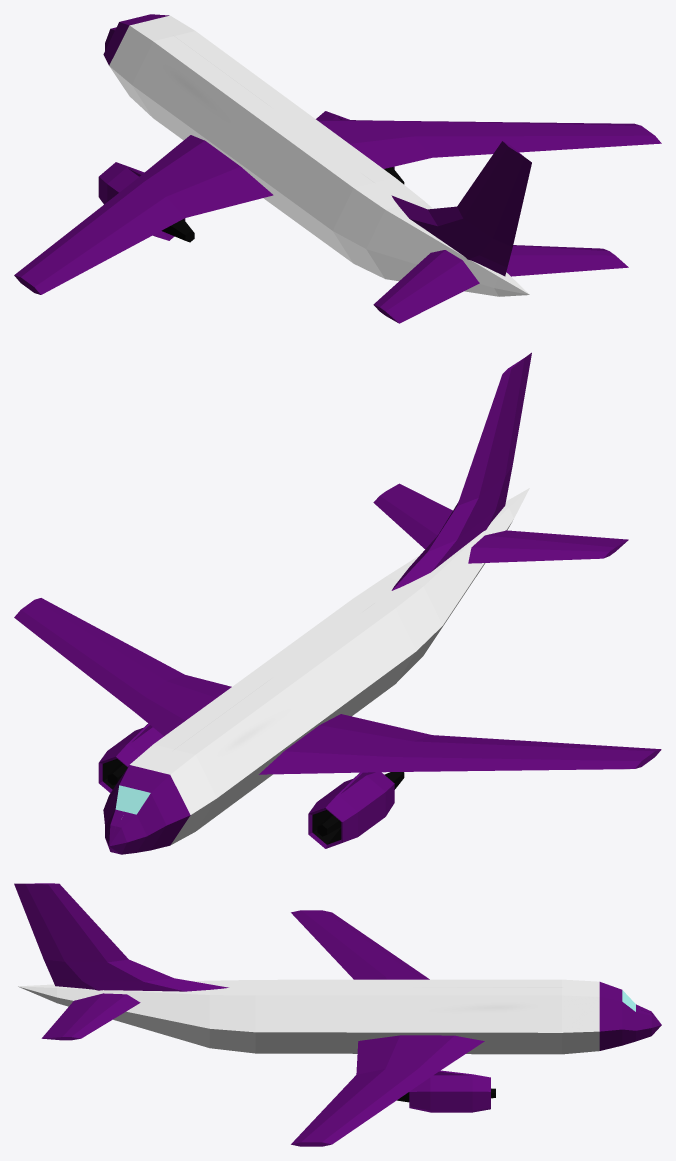
The model's file is Airliner.fbx.
The picture shows the model from 3 angles, top to bottom: view 1: azimuth 30°, elevation 25°; view 2: azimuth 150°, elevation 25°; view 3: azimuth 270°, elevation 25°; orthographic projection. The views are drawn at different scales.
Visible parts, largest first — view 1: Fuselage, Wing, Tail, Stabilizer, Engine; view 2: Fuselage, Wing, Tail, Stabilizer, Engine; view 3: Fuselage, Wing, Tail, Engine, Stabilizer.
Boxes of the visible parts, left/top/right/bottom form: Fuselage: left=103, top=14, right=529, bottom=296; Wing: left=14, top=119, right=661, bottom=294; Tail: left=391, top=141, right=531, bottom=276; Stabilizer: left=373, top=245, right=628, bottom=323; Engine: left=98, top=111, right=404, bottom=242; Fuselage: left=103, top=488, right=529, bottom=854; Wing: left=14, top=598, right=661, bottom=774; Tail: left=391, top=352, right=531, bottom=590; Stabilizer: left=373, top=483, right=628, bottom=563; Engine: left=98, top=723, right=404, bottom=848; Fuselage: left=18, top=979, right=661, bottom=1054; Wing: left=291, top=910, right=484, bottom=1146; Tail: left=14, top=883, right=228, bottom=991; Engine: left=397, top=1070, right=495, bottom=1112; Stabilizer: left=41, top=993, right=140, bottom=1040.
Size of the model in its own units: 3045 by 1160 by 3593.
Materials: 5 (5 with a texture image).
